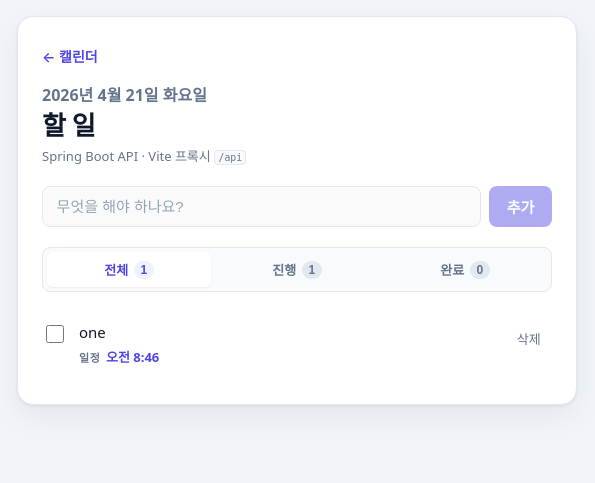
Test: TodoDayPage › shows delete error
The image size is (595, 483).
expect the text "one" is shown: met, box [79,322,106,342]
What coordinates should you click on to do the following:
click the button with aria-label "one 삭제"
I would click on:
 (529, 338)
Its box is [505,322,552,354].
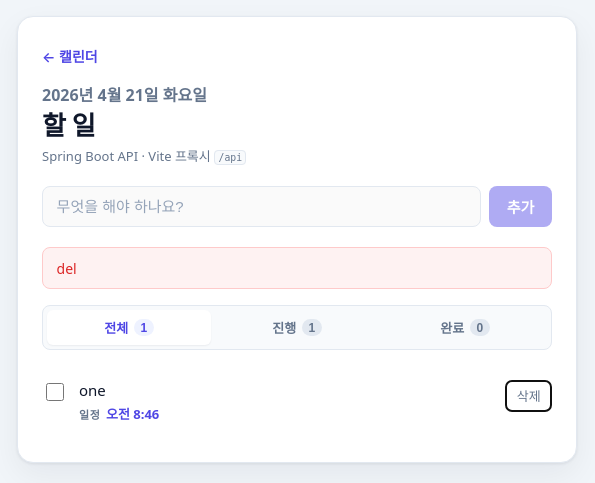
expect the message reads "del": met, box [57,259,77,278]
